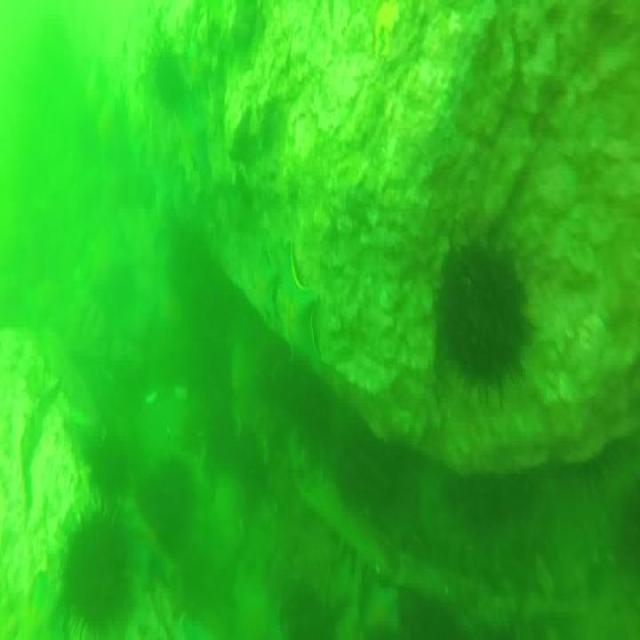echinus: (443, 234, 527, 409), (61, 507, 127, 632), (281, 234, 319, 370), (140, 460, 199, 545), (89, 444, 131, 507), (153, 52, 186, 119), (250, 251, 281, 319)
